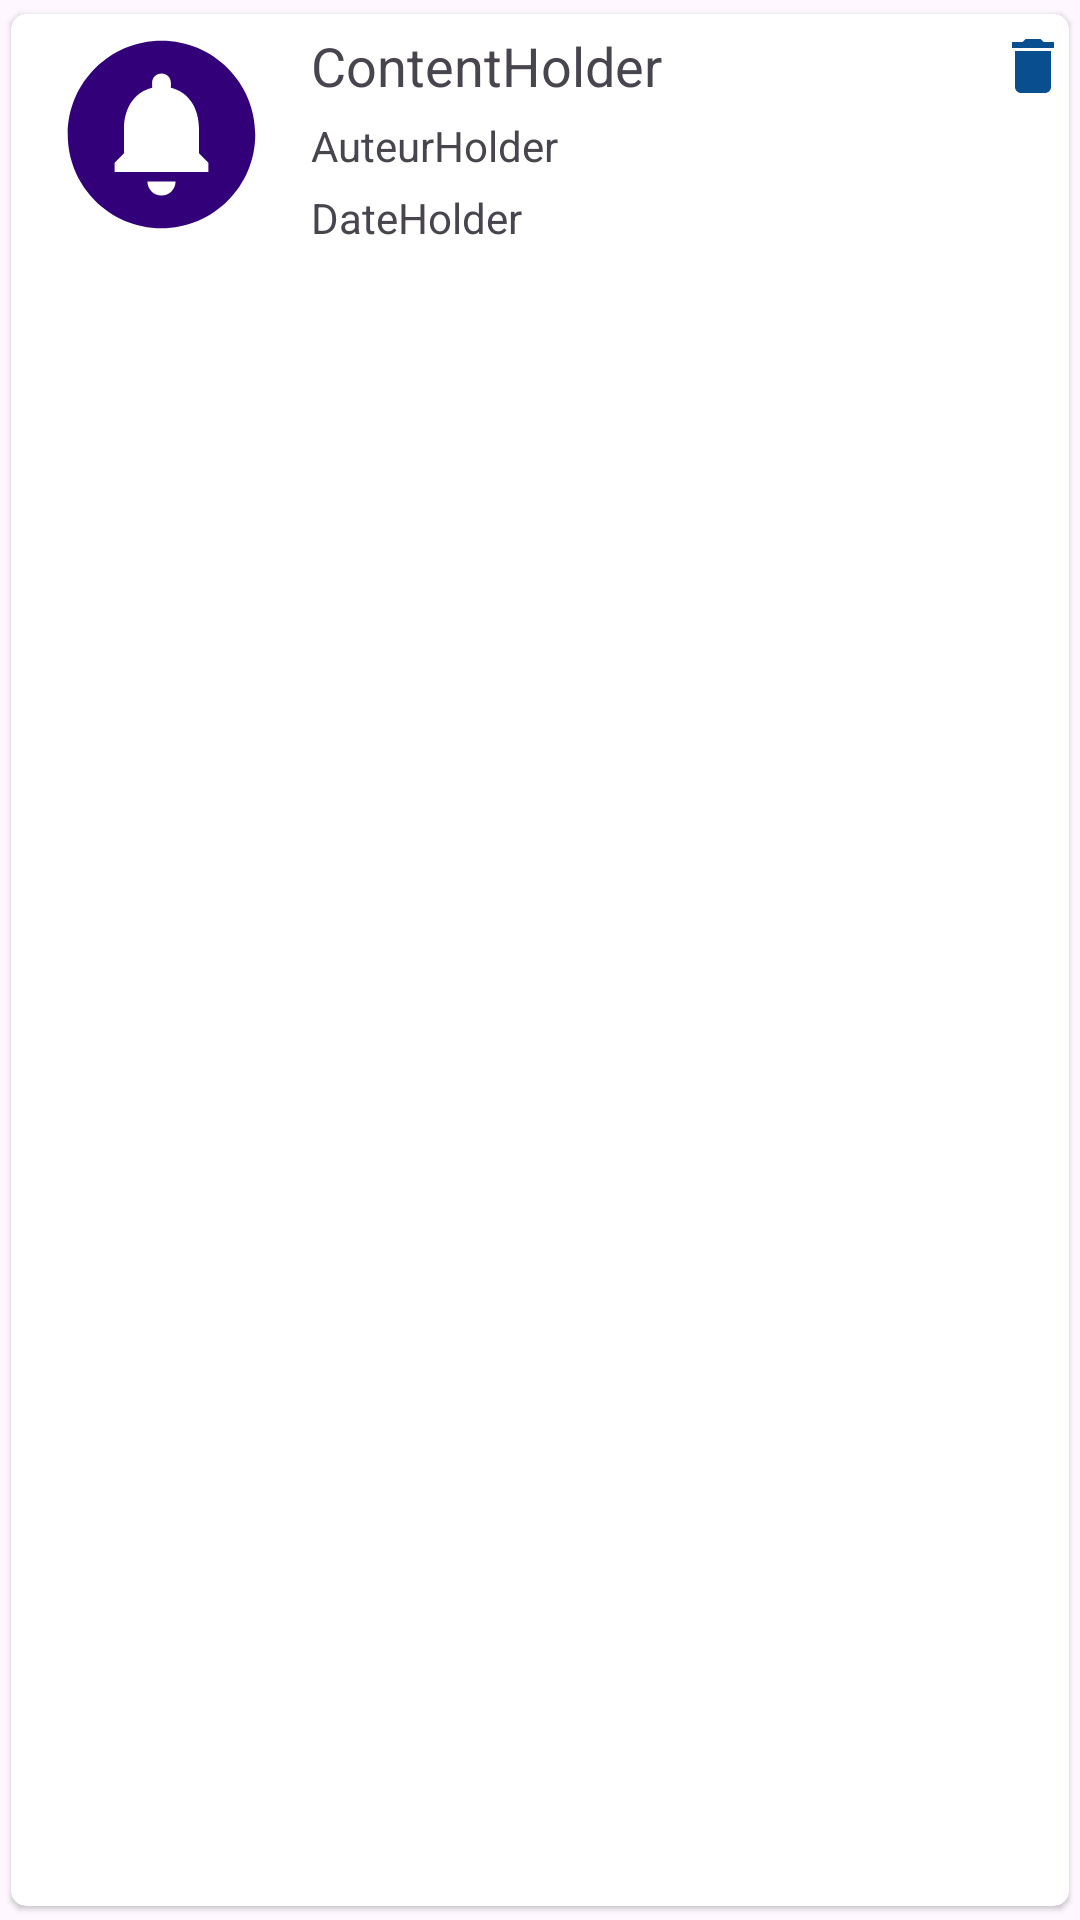

Screen size 1080×1920. Icon name, then its center in pixels as (x,y):
circle notifications: (161,134)
